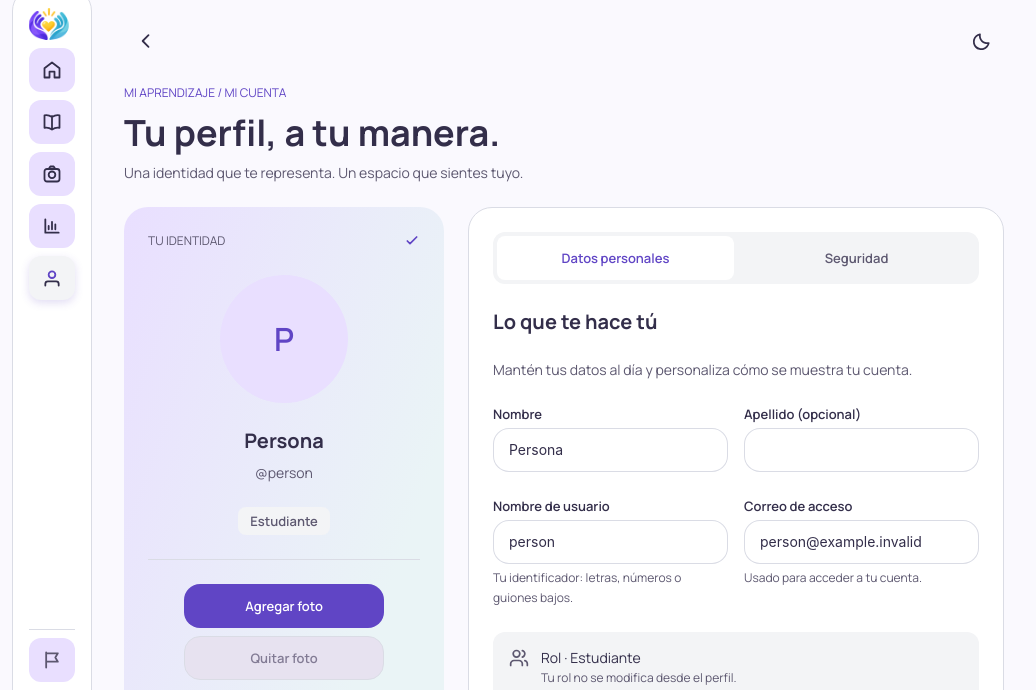
perfil Student bloquea navegación al guardar y después del éxito navega sin descarte
Replace the text in the field labelled "Nombre" with "Guardado" at (610, 450), box 509,440 -> 712,460
(page scrolled)
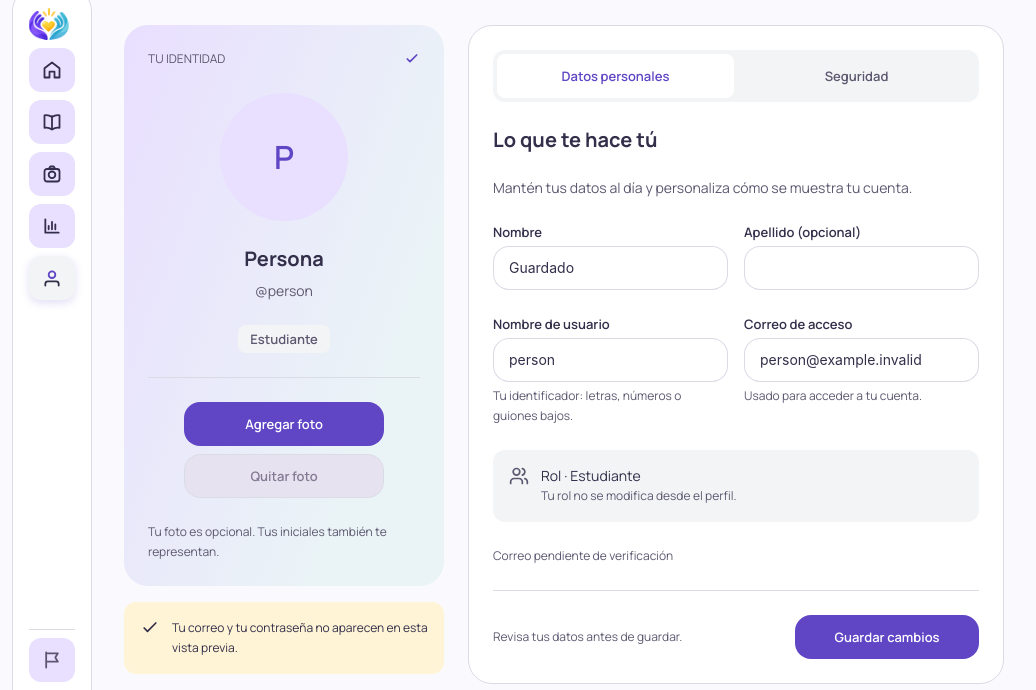
Click the button "Guardar cambios" at (887, 638), box 795,616 -> 979,660
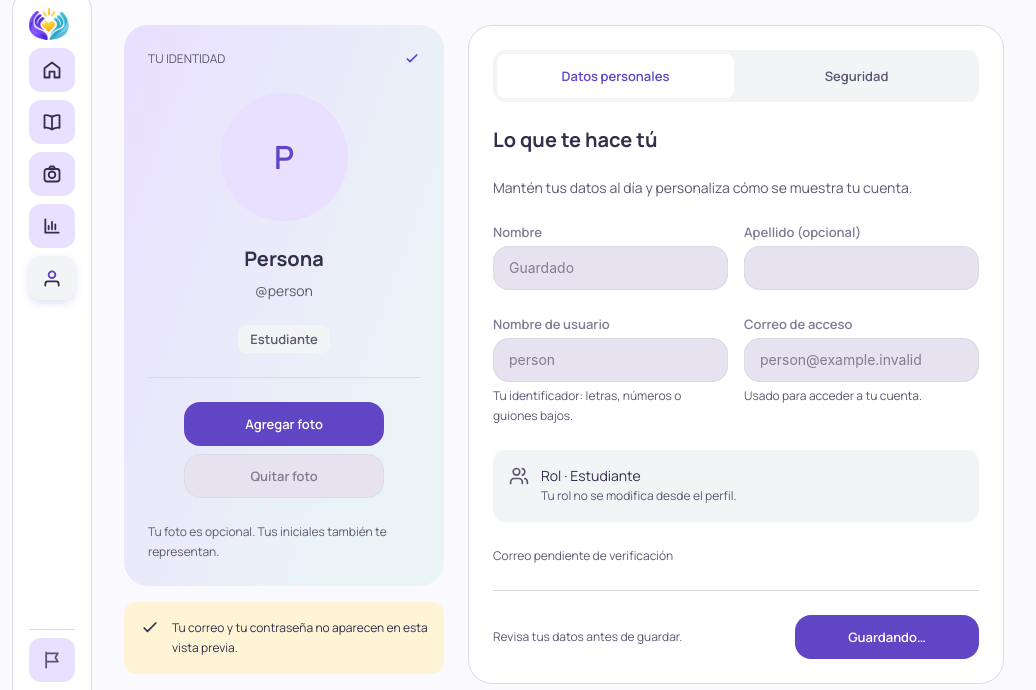
Click the link "Seguridad" at (856, 76), box 825,68 -> 888,86
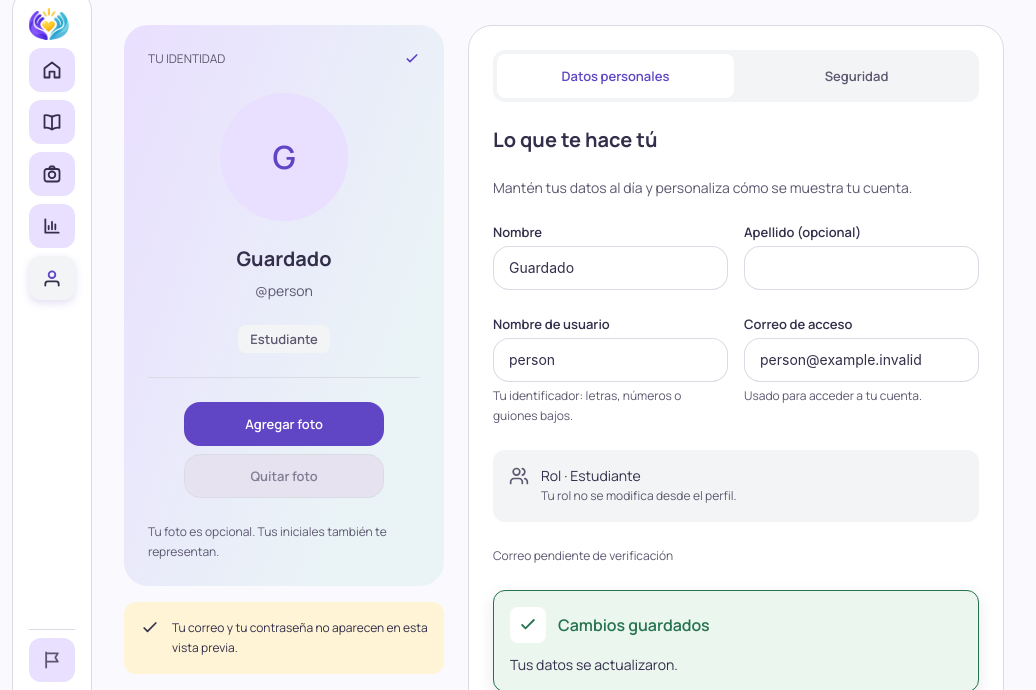
expect the field labelled "Contraseña actual" is not shown: met
expect the text "Cambios guardados" is shown: met, box 558,614 -> 710,638
Click the link "Seguridad" at (856, 76), box 825,68 -> 888,86
(page scrolled)
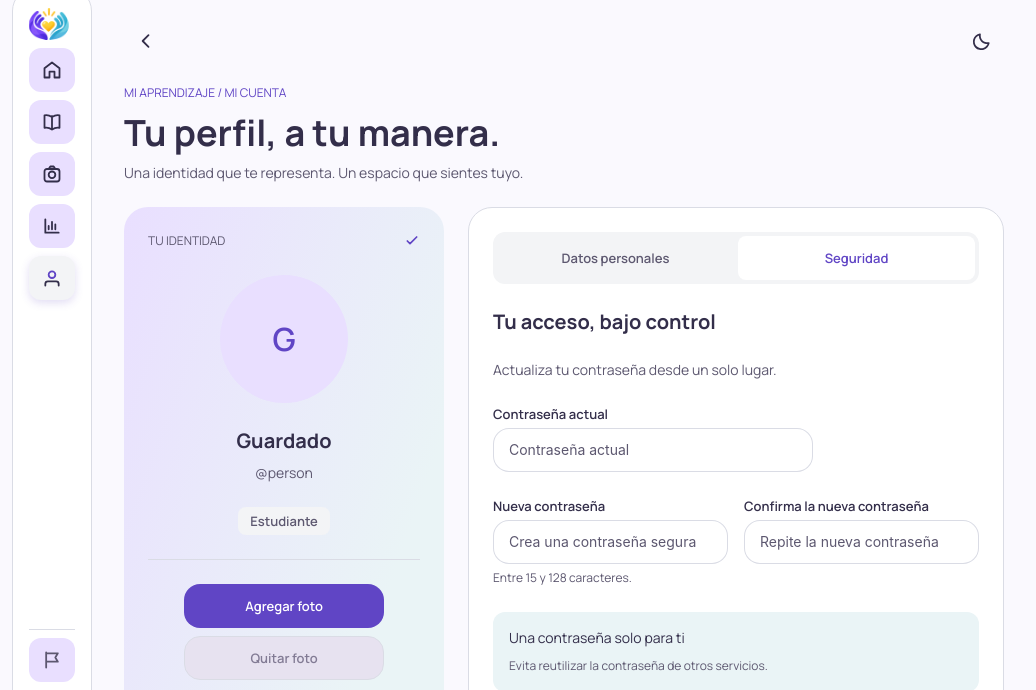
expect the password field labelled "Contraseña actual" is shown: met, box 509,440 -> 797,460
